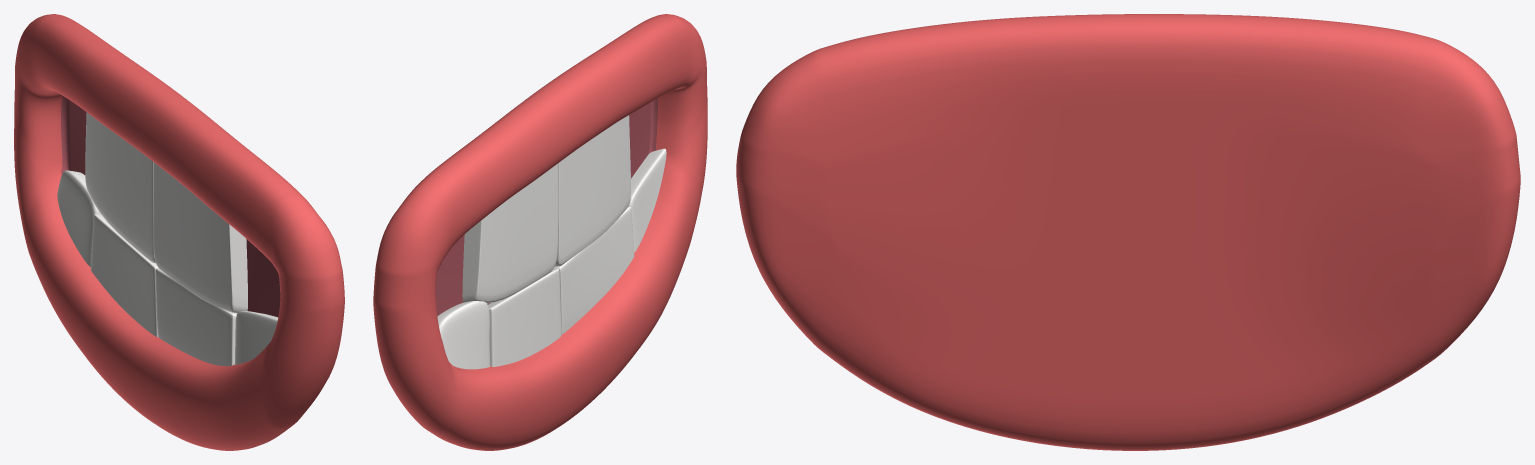
File: tooth_buddies.glb
3 renders of one model, left to right at view 1: azimuth 30°, elevation 25°; view 2: azimuth 150°, elevation 25°; view 3: azimuth 270°, elevation 25°, orthographic. The views are drawn at different scales.
Parts seen in each view (by area): view 1: Plane.003_5; view 2: Plane.003_5; view 3: Plane.003_5.
Part boxes in pixels (left/top/right/bottom): Plane.003_5: left=14, top=14, right=344, bottom=450; Plane.003_5: left=373, top=14, right=707, bottom=450; Plane.003_5: left=736, top=14, right=1520, bottom=450.
Bounding box in the file's own units: 0.1912 × 0.9338 × 1.54.
